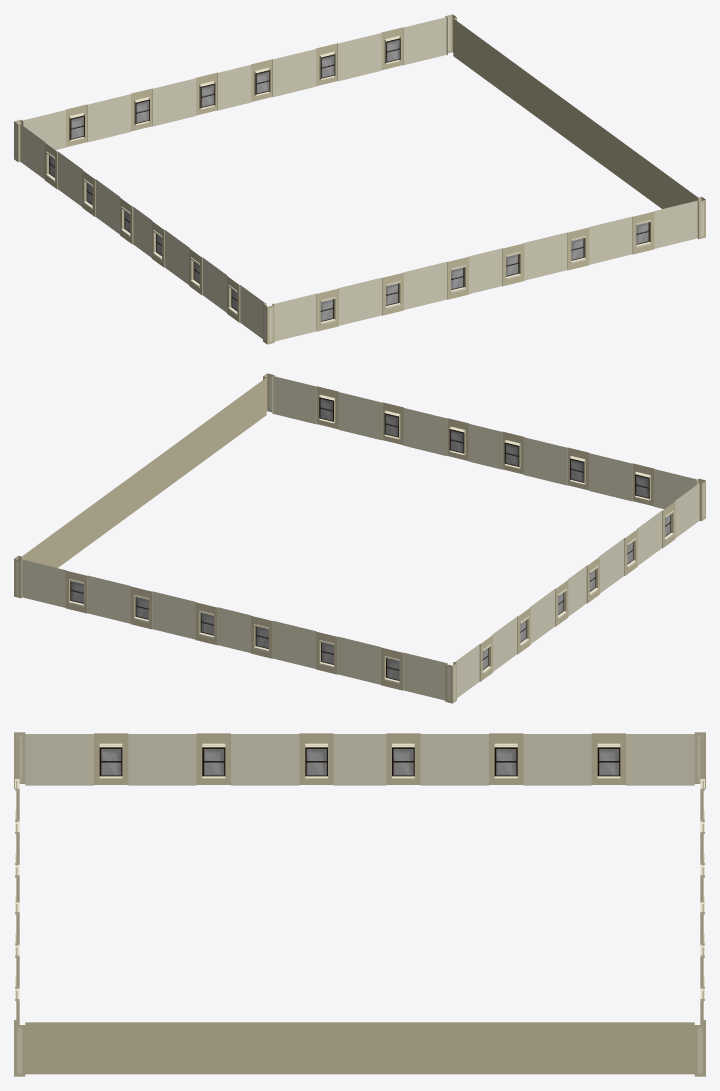
File: BuildingBig4_3.fbx
3 renders of one model, top to bottom at view 1: azimuth 30°, elevation 25°; view 2: azimuth 150°, elevation 25°; view 3: azimuth 270°, elevation 25°, orthographic. The views are drawn at different scales.
Visible parts, largest first — view 1: BuildingBig4_3.006; view 2: BuildingBig4_3.006; view 3: BuildingBig4_3.006.
Part boxes in pixels (x1=…): BuildingBig4_3.006: x1=14, y1=14, x2=705, y2=344; BuildingBig4_3.006: x1=14, y1=373, x2=705, y2=703; BuildingBig4_3.006: x1=14, y1=732, x2=705, y2=1076.
Bounding box in the file's own units: 6060 × 500 × 6060.
